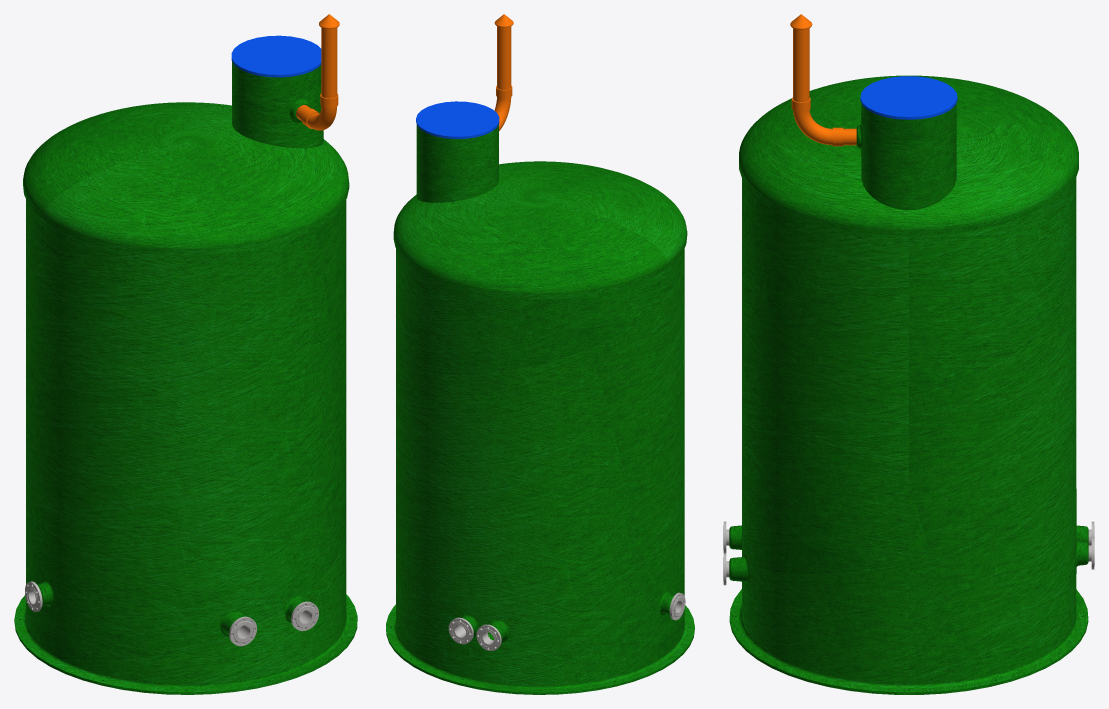
File: ECOWARD_W-K1H-2.glb
3 views of the same model, side by side, from view 1: azimuth 30°, elevation 25°; view 2: azimuth 150°, elevation 25°; view 3: azimuth 270°, elevation 25° (orthographic). The views are drawn at different scales.
Visible parts, largest first — view 1: Твердое тело1, Твердое тело2, Твердое тело4; view 2: Твердое тело1, Твердое тело2, Твердое тело4; view 3: Твердое тело1, Твердое тело2, Твердое тело4.
Part boxes in pixels (x1,y1,x2,y2): Твердое тело1: [14, 35, 357, 694]; Твердое тело2: [321, 27, 337, 98]; Твердое тело4: [301, 94, 338, 130]; Твердое тело1: [386, 101, 694, 694]; Твердое тело2: [497, 26, 511, 89]; Твердое тело4: [494, 86, 512, 130]; Твердое тело1: [729, 75, 1088, 694]; Твердое тело2: [793, 28, 809, 102]; Твердое тело4: [791, 97, 843, 146].
Bounding box in the file's own units: 2.44 × 4.81 × 2.48.
7 materials, 2 textured.
